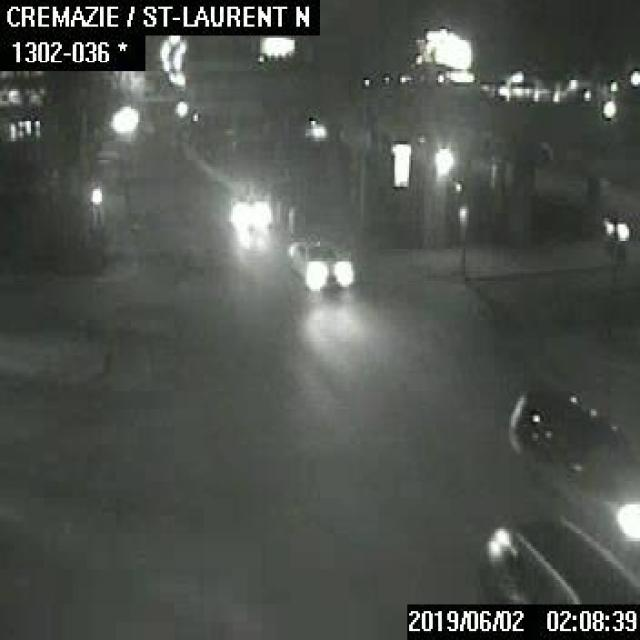construction: (285, 206, 293, 226)
vehicle: (511, 388, 638, 542), (478, 518, 638, 602), (286, 238, 358, 293), (227, 196, 271, 233)
